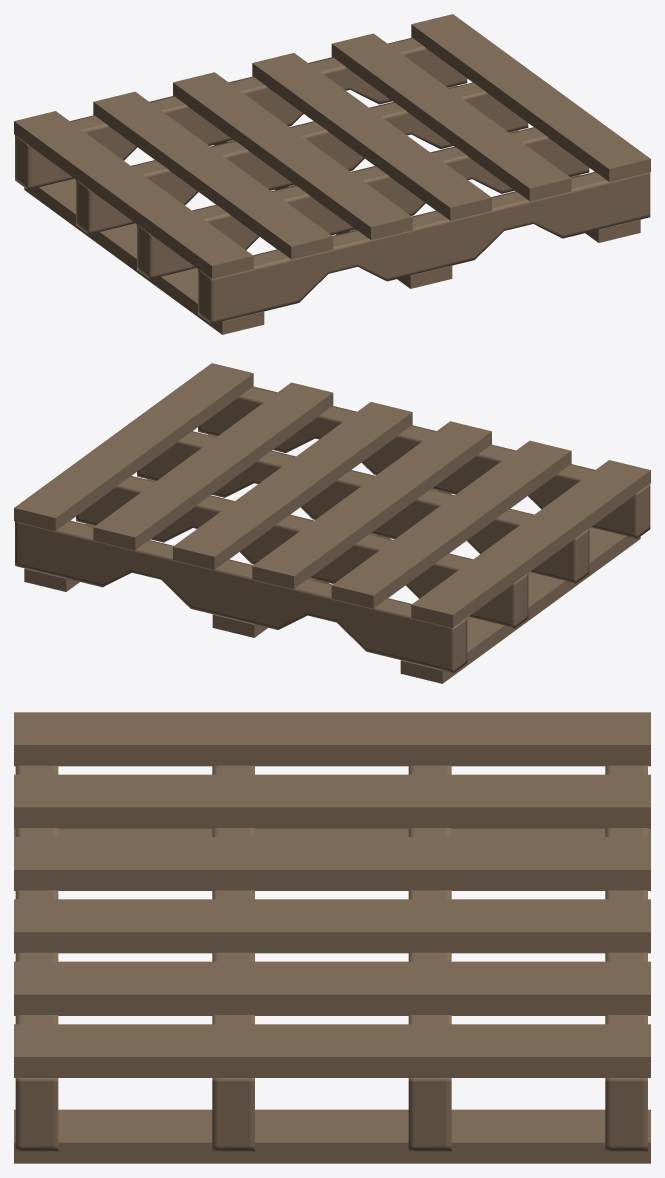
The model's file is Prop_ShippingPallet.fbx.
3 renders of one model, top to bottom at view 1: azimuth 30°, elevation 25°; view 2: azimuth 150°, elevation 25°; view 3: azimuth 270°, elevation 25°, orthographic. The views are drawn at different scales.
Parts seen in each view (by area): view 1: shipping_pallet; view 2: shipping_pallet; view 3: shipping_pallet.
Part boxes in pixels (box(x1,y1,x2,y2)): shipping_pallet: box(14, 14, 650, 334); shipping_pallet: box(14, 363, 650, 683); shipping_pallet: box(14, 712, 650, 1163).
Size of the model in its own units: 588 by 91.41 by 459.
